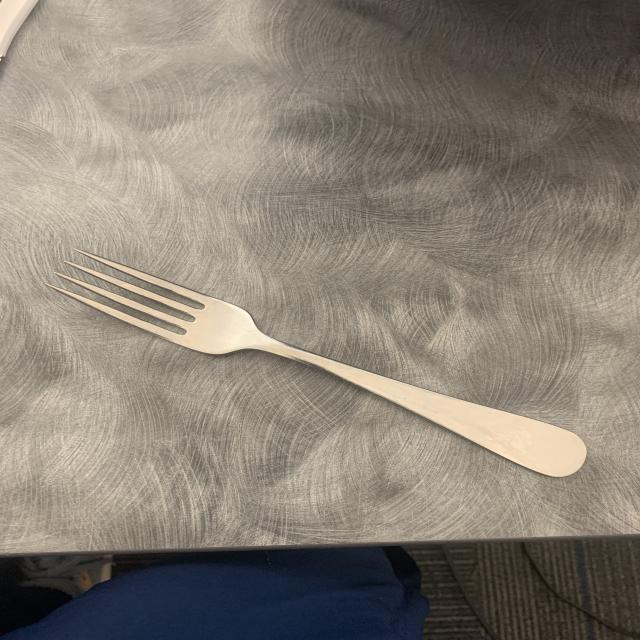fork: (26, 237, 616, 503)
